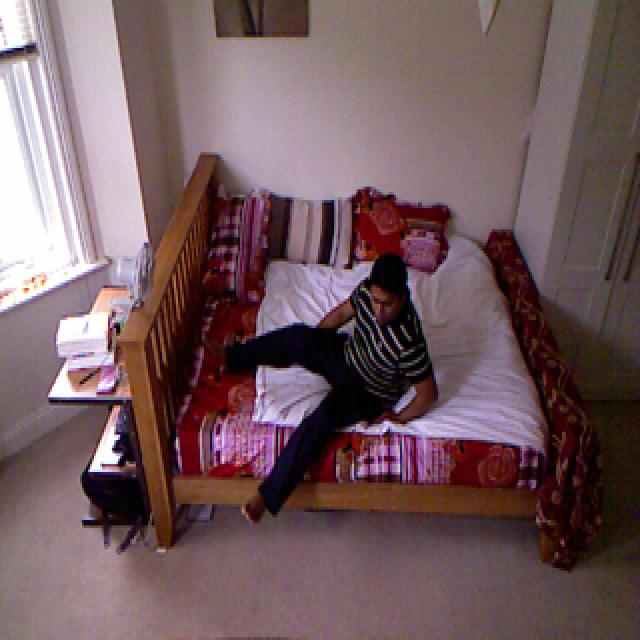bending: (245, 253, 436, 522)
